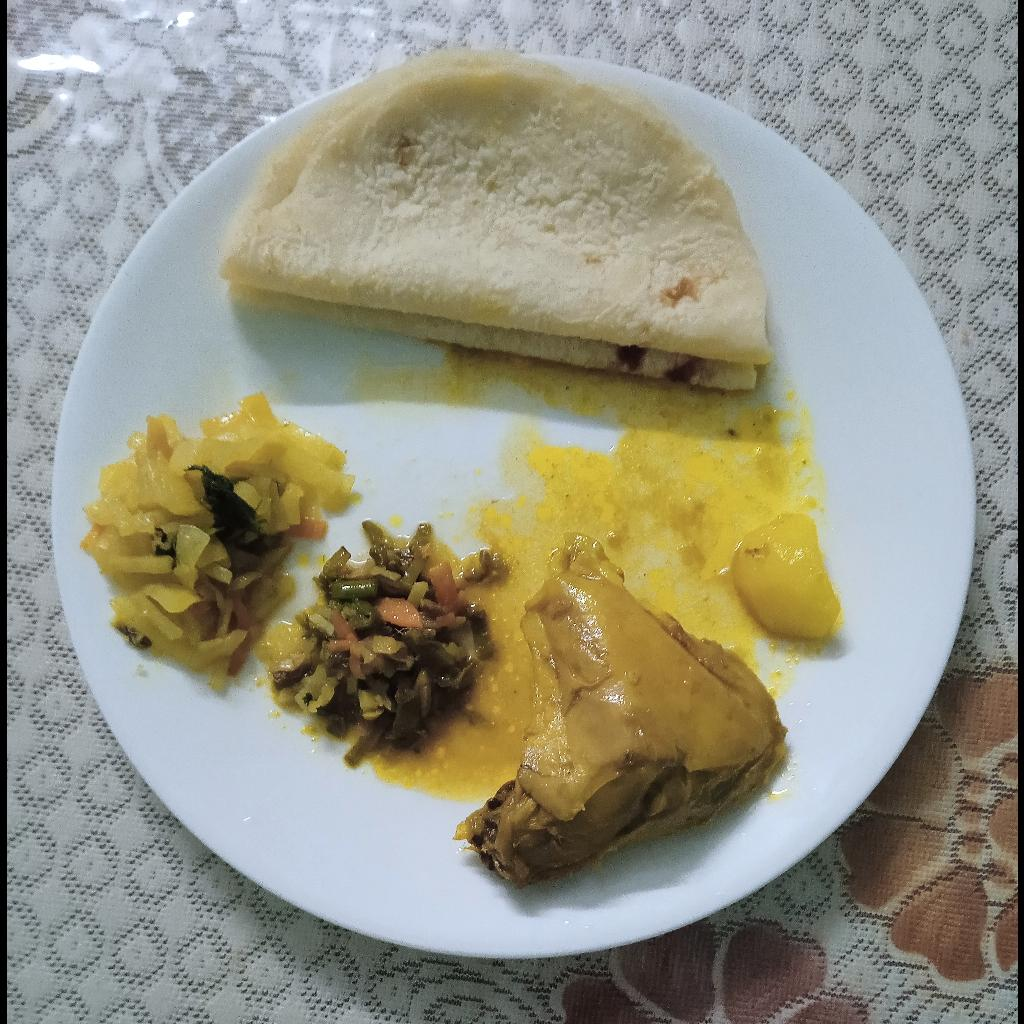cabbage: (86, 397, 354, 671)
chicken: (458, 545, 784, 895)
potato: (738, 514, 843, 639)
ruti: (222, 50, 774, 387)
vegetable: (275, 518, 486, 748)
